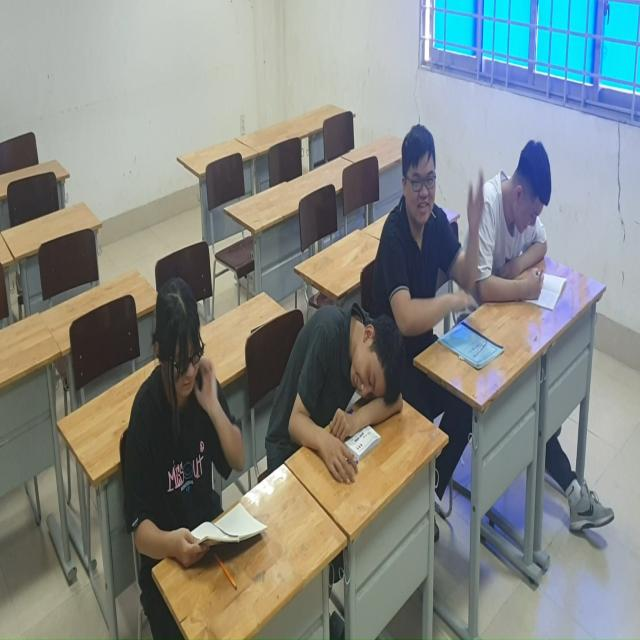raise_hand: (376, 120, 487, 358)
read: (120, 269, 270, 588), (477, 130, 568, 316)
sleep: (267, 291, 409, 489)
